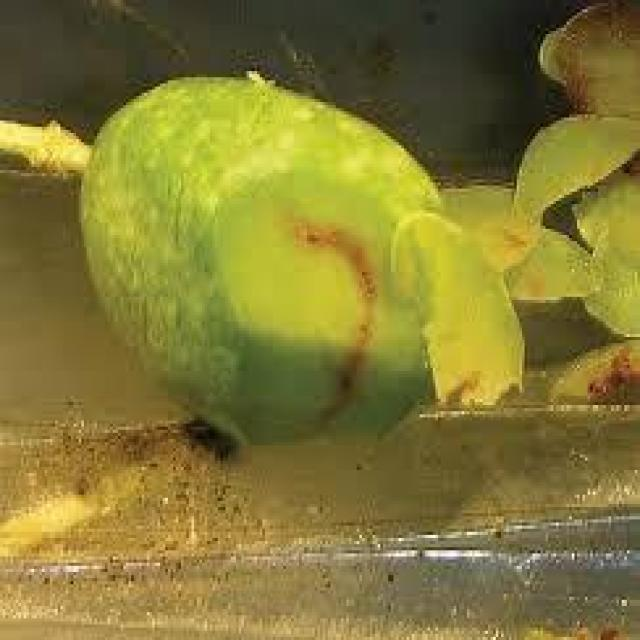Anthracnose: (202, 120, 435, 446)
